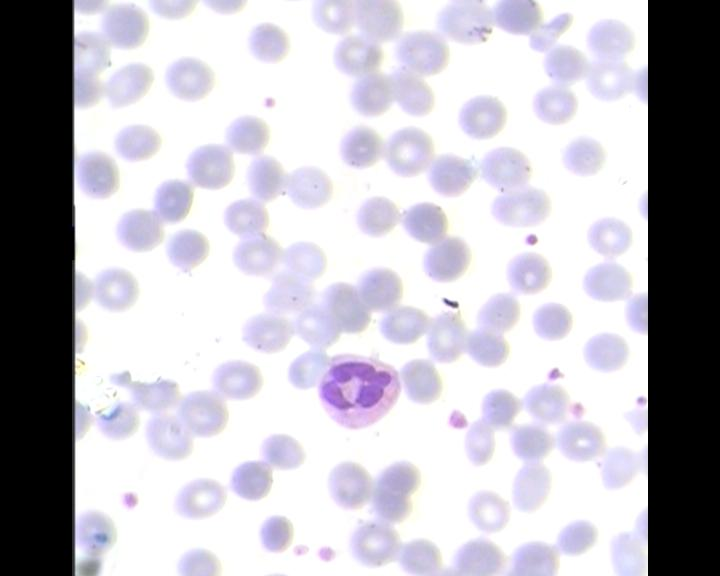neut: (316, 351, 404, 429)
